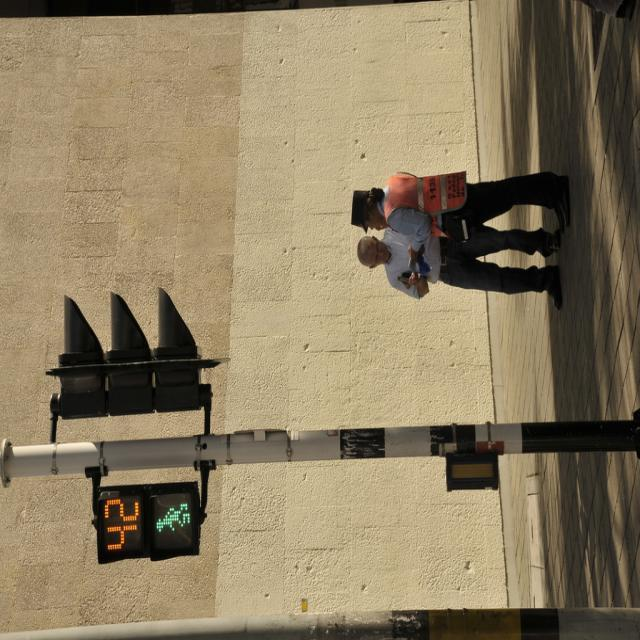off traffic light: (55, 295, 209, 411)
traffic light: (99, 483, 202, 561)
